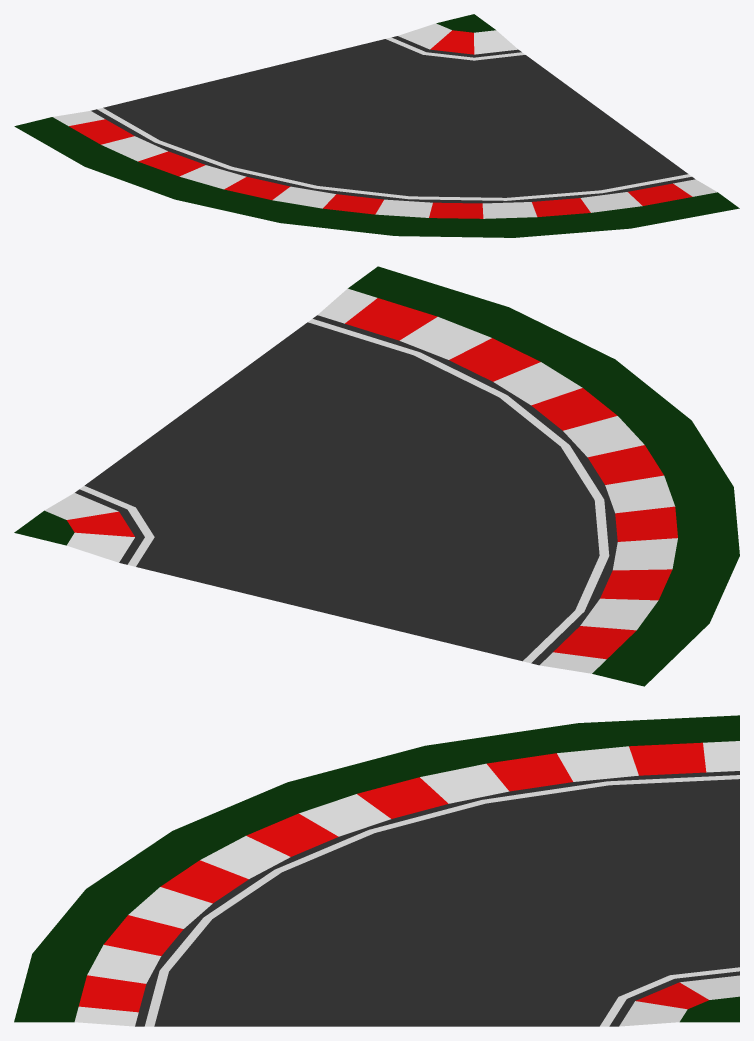
The model's file is ETC0510002.fbx.
3 renders of one model, top to bottom at view 1: azimuth 30°, elevation 25°; view 2: azimuth 150°, elevation 25°; view 3: azimuth 270°, elevation 25°, orthographic. The views are drawn at different scales.
Visible parts, largest first — view 1: smETC0510002; view 2: smETC0510002; view 3: smETC0510002.
Boxes of the visible parts, x1=… form: smETC0510002: x1=14, y1=14, x2=739, y2=237; smETC0510002: x1=14, y1=266, x2=739, y2=686; smETC0510002: x1=14, y1=715, x2=739, y2=1026.
Size of the model in its own units: 1800 by 12 by 1800.
Materials: 1 (1 with a texture image).
